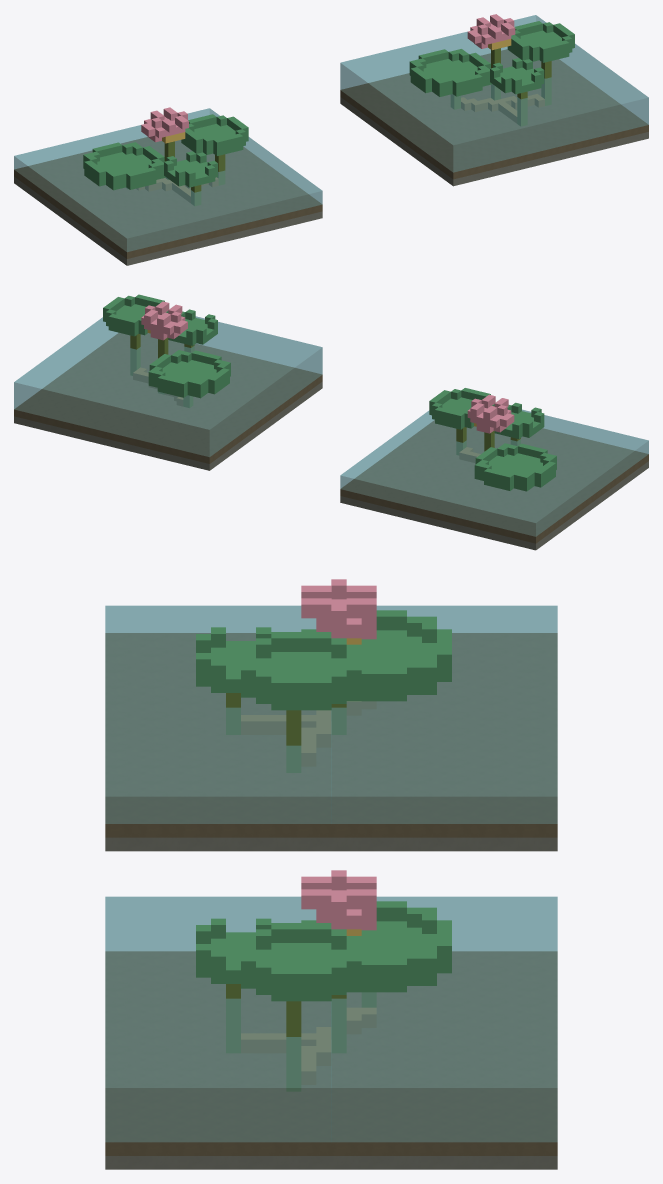
The picture shows the model from 3 angles, top to bottom: view 1: azimuth 30°, elevation 25°; view 2: azimuth 150°, elevation 25°; view 3: azimuth 270°, elevation 25°; orthographic projection. The views are drawn at different scales.
Parts seen in each view (by area): view 1: 连续水系原生合成（辅助；保留母版） (×2); view 2: 连续水系原生合成（辅助；保留母版） (×2); view 3: 连续水系原生合成（辅助；保留母版） (×2).
Boxes of the visible parts, box(x1,y1,x2,y2) form: 连续水系原生合成（辅助；保留母版） (×2): box(14, 14, 648, 265); 连续水系原生合成（辅助；保留母版） (×2): box(14, 294, 648, 550); 连续水系原生合成（辅助；保留母版） (×2): box(105, 579, 557, 1169).
Size of the model in its own units: 16 by 2.8 by 6.
8 materials, 7 textured.
